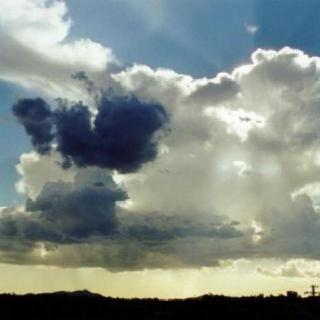Cumulus: (0, 0, 320, 282)
